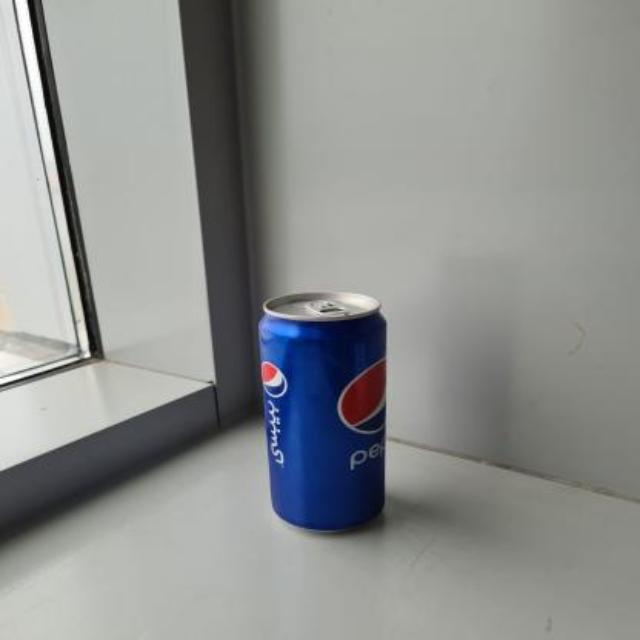metal: (258, 291, 383, 528)
